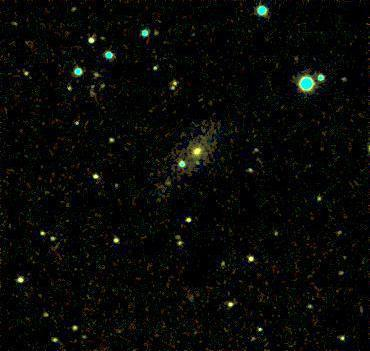star: (183, 151, 213, 181)
